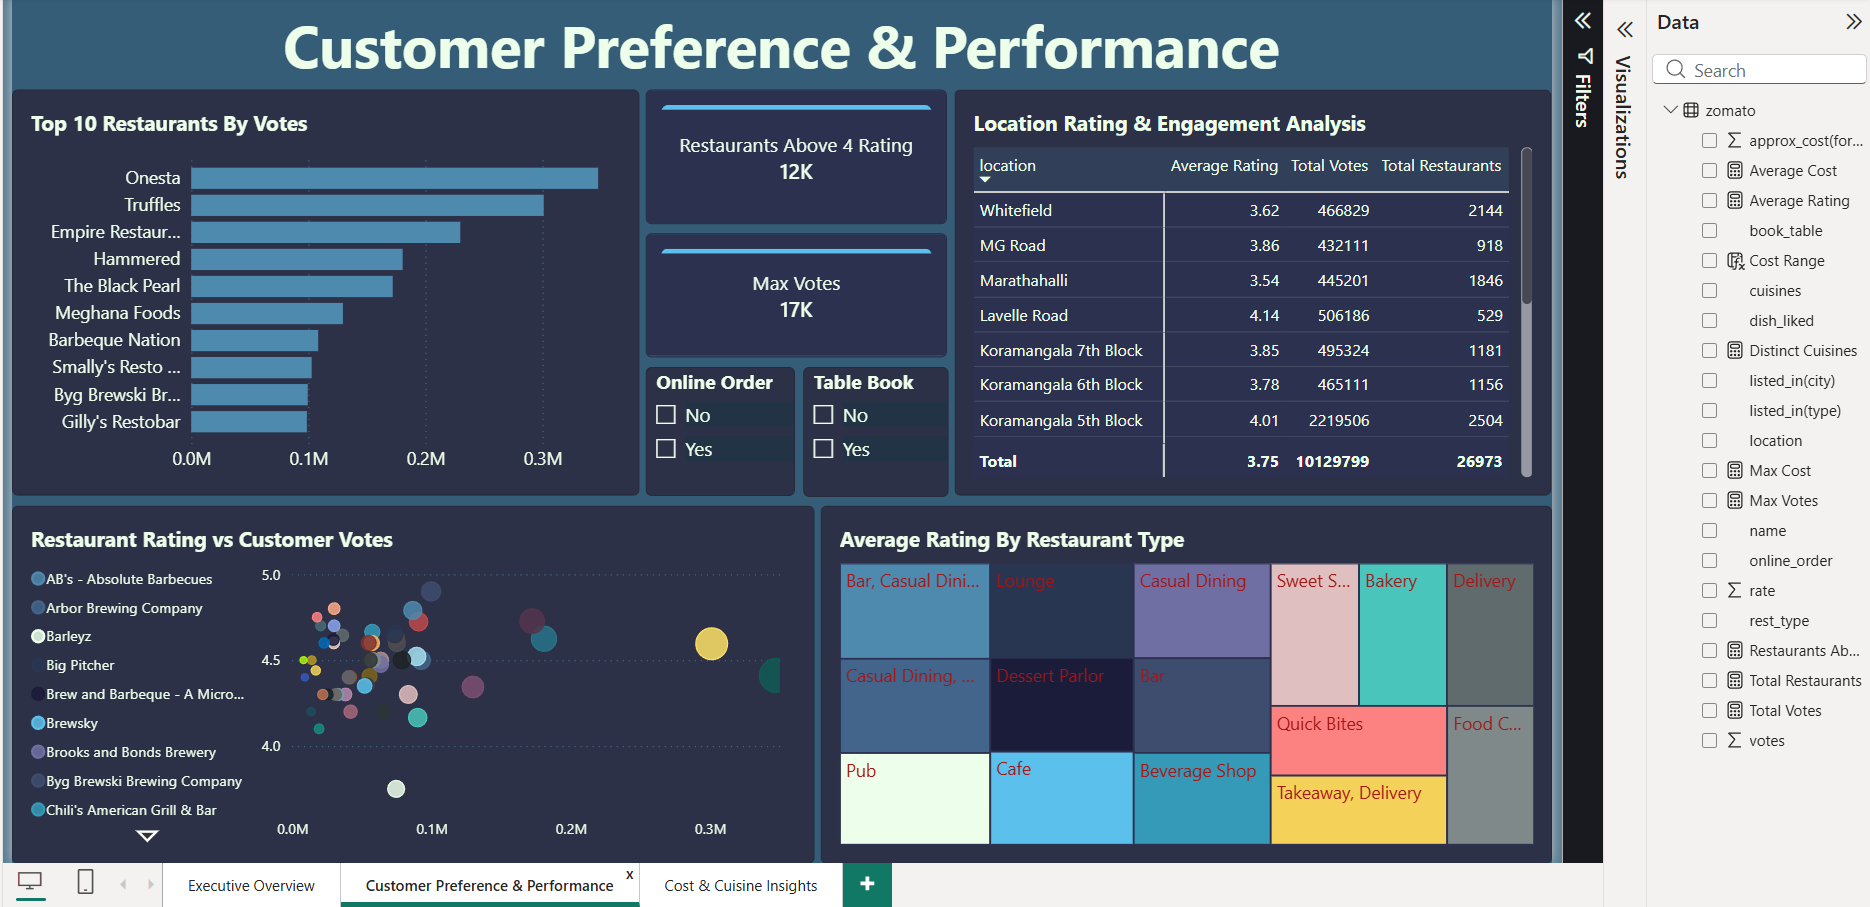

The dashboard page shown, as its layout file describes it:
{"tool":"powerbi","page":{"name":"Customer Preference & Performance","canvas":[1280,720],"ordinal":1},"visuals":[{"type":"cardVisual","fields":{"Data":["zomato.Max Votes"]},"box":[526.9,196.4,250.5,102.9],"z":0},{"type":"cardVisual","fields":{"Data":["zomato.Restaurants Above 4 Rating"]},"box":[526.9,76.9,250.5,112.2],"z":1000},{"type":"pivotTable","title":"Location Rating & Engagement Analysis","fields":{"Rows":["zomato.location"],"Values":["zomato.Average Rating","zomato.Total Votes","zomato.Total Restaurants"]},"box":[783.6,76.9,495.7,337.8],"z":2000},{"type":"barChart","title":"Top 10 Restaurants By Votes","fields":{"Category":["zomato.name"],"Y":["Sum(zomato.votes)"]},"box":[0,76.9,521.7,337.8],"z":3000},{"type":"treemap","title":"Average Rating By Restaurant Type","fields":{"Group":["zomato.rest_type"],"Values":["Avg(zomato.rate)"]},"box":[672.4,423,608,297.2],"z":4000},{"type":"scatterChart","title":"Restaurant Rating vs Customer Votes","fields":{"X":["Sum(zomato.votes)"],"Y":["Avg(zomato.rate)"],"Size":["Sum(zomato.votes)"],"Series":["zomato.name"]},"box":[0,423,667.2,297.2],"z":5000},{"type":"slicer","fields":{"Values":["zomato.online_order"]},"box":[526.9,307.6,123.7,107],"z":6000},{"type":"slicer","fields":{"Values":["zomato.book_table"]},"box":[657.9,307.6,120.6,108.1],"z":7000},{"type":"textbox","box":[0,7.3,1279.3,69.6],"z":8000}]}

Visuals, with their boxes on the page's 1280x720 design canvas (x1, y1, x2, y2). These are canvas units, not pixel positions in the 1870x907 screenshot, which may show the page scaled, cropped or inside an application window:
cardVisual - zomato.Max Votes: pyautogui.locateOnScreen(527, 196, 777, 299)
cardVisual - zomato.Restaurants Above 4 Rating: pyautogui.locateOnScreen(527, 77, 777, 189)
"Location Rating & Engagement Analysis" pivotTable: pyautogui.locateOnScreen(784, 77, 1279, 415)
"Top 10 Restaurants By Votes" barChart: pyautogui.locateOnScreen(0, 77, 522, 415)
"Average Rating By Restaurant Type" treemap: pyautogui.locateOnScreen(672, 423, 1280, 720)
"Restaurant Rating vs Customer Votes" scatterChart: pyautogui.locateOnScreen(0, 423, 667, 720)
slicer - zomato.online_order: pyautogui.locateOnScreen(527, 308, 651, 415)
slicer - zomato.book_table: pyautogui.locateOnScreen(658, 308, 778, 416)
textbox: pyautogui.locateOnScreen(0, 7, 1279, 77)
